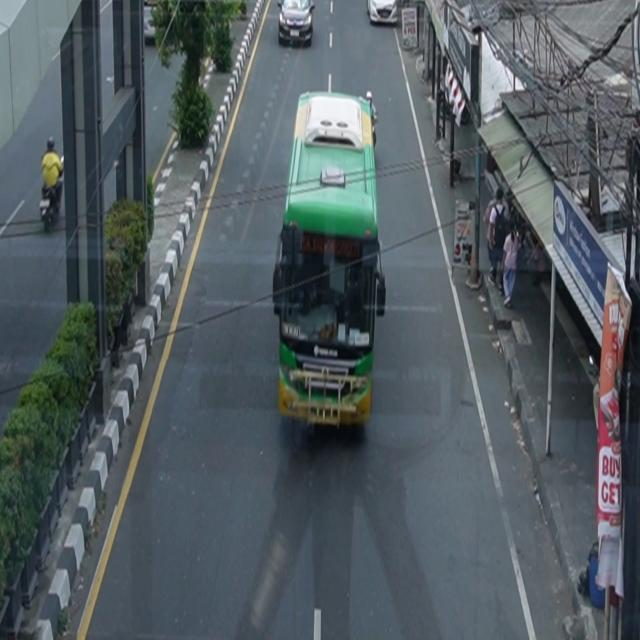bus: (273, 90, 387, 436)
car: (278, 1, 316, 48), (367, 1, 399, 26)
